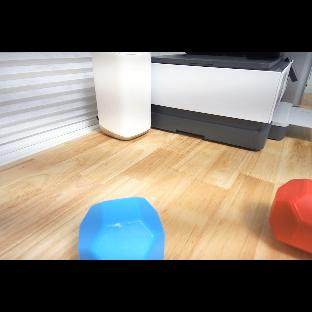V5_BLUE: (77, 197, 166, 260)
V5_RED: (270, 177, 312, 254)
